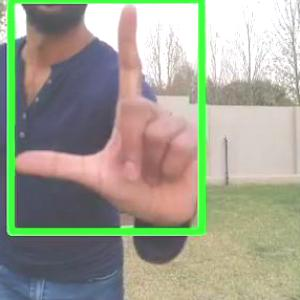land_hand: (31, 9, 210, 210)
